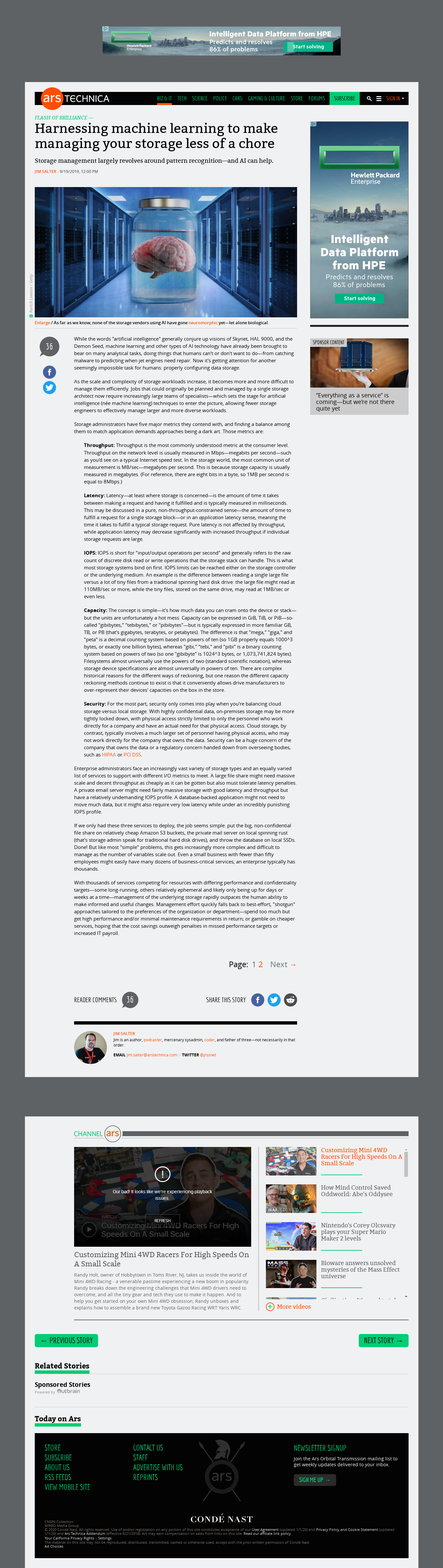fake_button: (350, 1328, 414, 1356), (32, 1328, 104, 1352), (330, 292, 390, 310)
